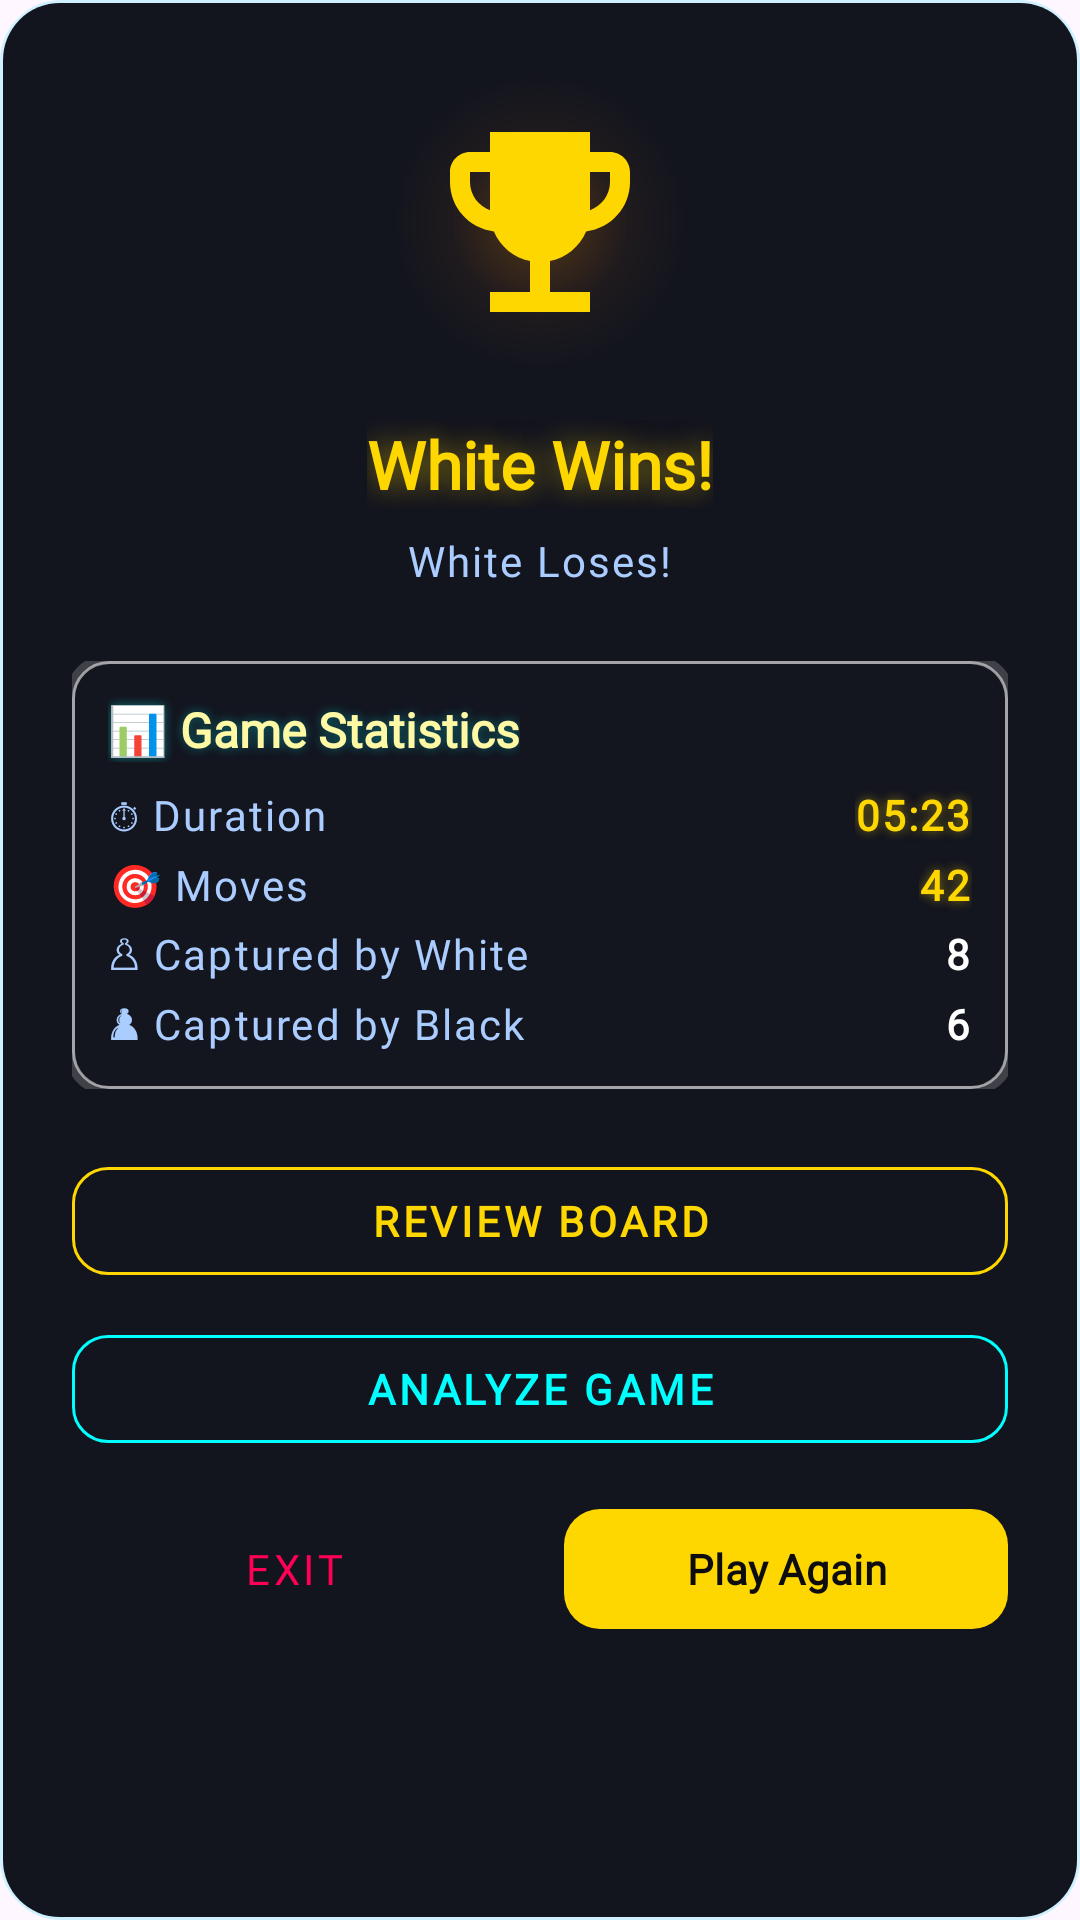

Icon bounding boxes for this 1080 × 1920 phone screenshot, format detection(x1, y1, x2, y2):
trophy: detection(450, 132, 630, 312)
